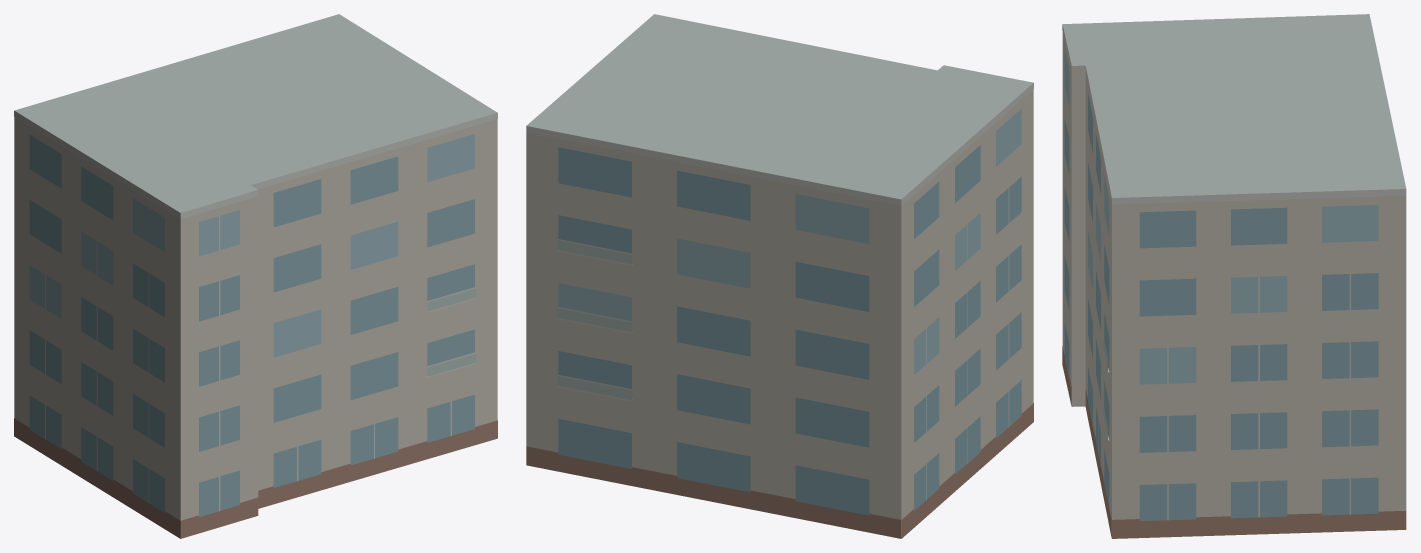
File: survey-upis-32982356.glb
3 views of the same model, side by side, from view 1: azimuth 30°, elevation 25°; view 2: azimuth 150°, elevation 25°; view 3: azimuth 270°, elevation 25° (orthographic). The views are drawn at different scales.
Parts seen in each view (by area): view 1: survey-upis-32982356.tmp; view 2: survey-upis-32982356.tmp; view 3: survey-upis-32982356.tmp.
Part boxes in pixels (box(x1,y1,x2,y2)): survey-upis-32982356.tmp: box(14, 14, 497, 538); survey-upis-32982356.tmp: box(526, 14, 1033, 538); survey-upis-32982356.tmp: box(1062, 14, 1406, 538).
Size of the model in its own units: 14.6 by 12.6 by 11.53.
